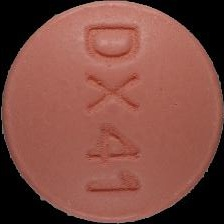61919-468: (0, 0, 224, 224)
